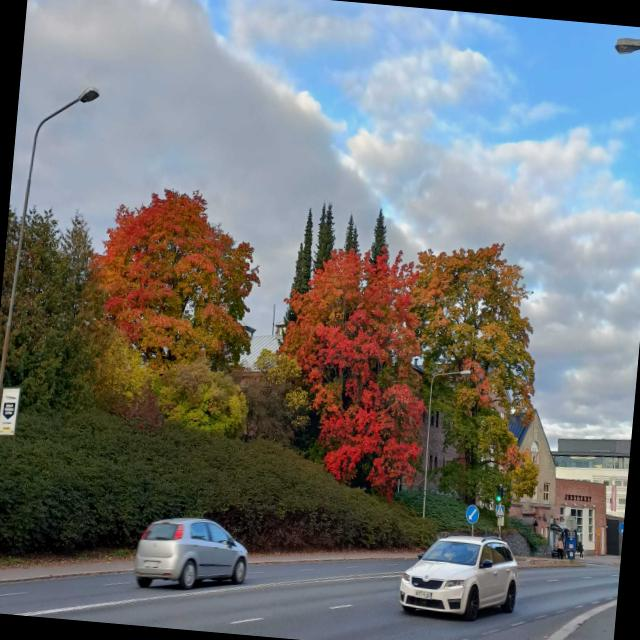Tree-detection: (258, 214, 440, 516), (78, 162, 274, 420), (398, 233, 562, 527)
